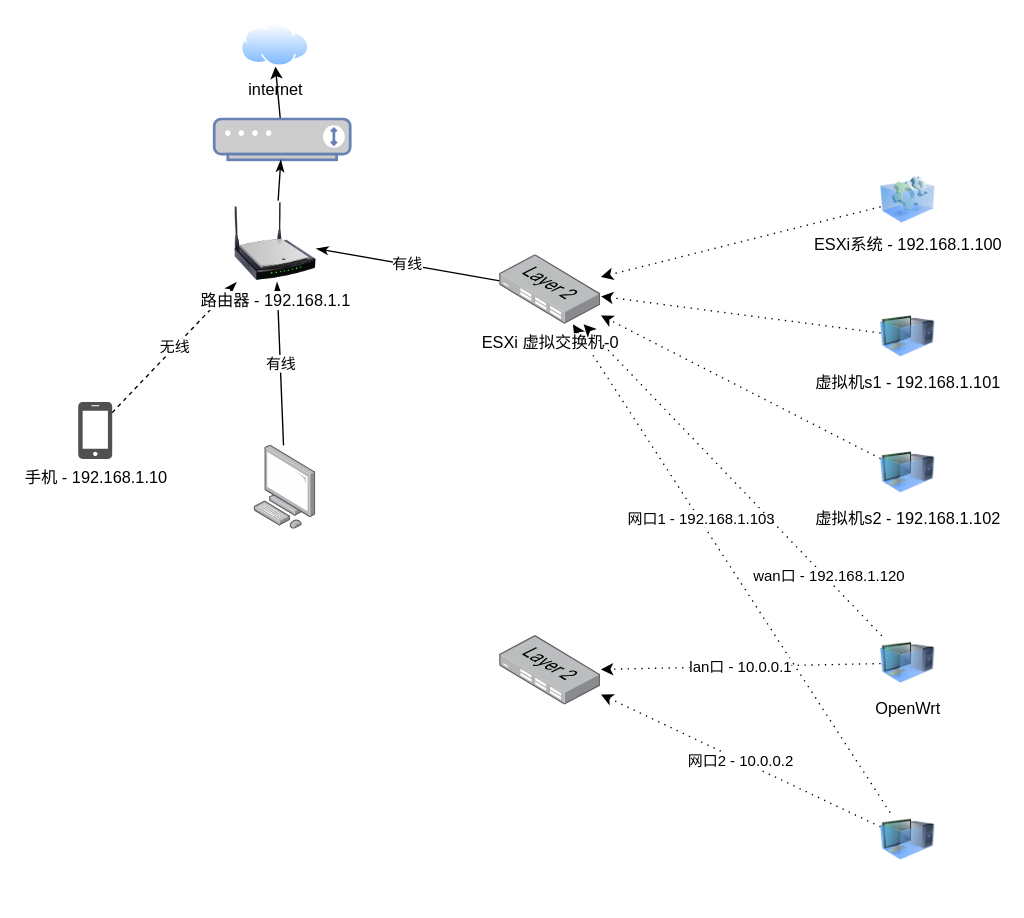
The diagram is 1024 pixels wide and 918 high, and some of its shapes have lost their labels. Here are the shapes that lost their labels. From the top down, the box of each, then its label:
(212, 117, 351, 160): 光猫
(254, 445, 316, 529): 个人电脑 - 192.168.1.11
(499, 635, 600, 704): ESXi 虚拟交换机-1
(880, 812, 934, 866): 虚拟机s3 - ？
